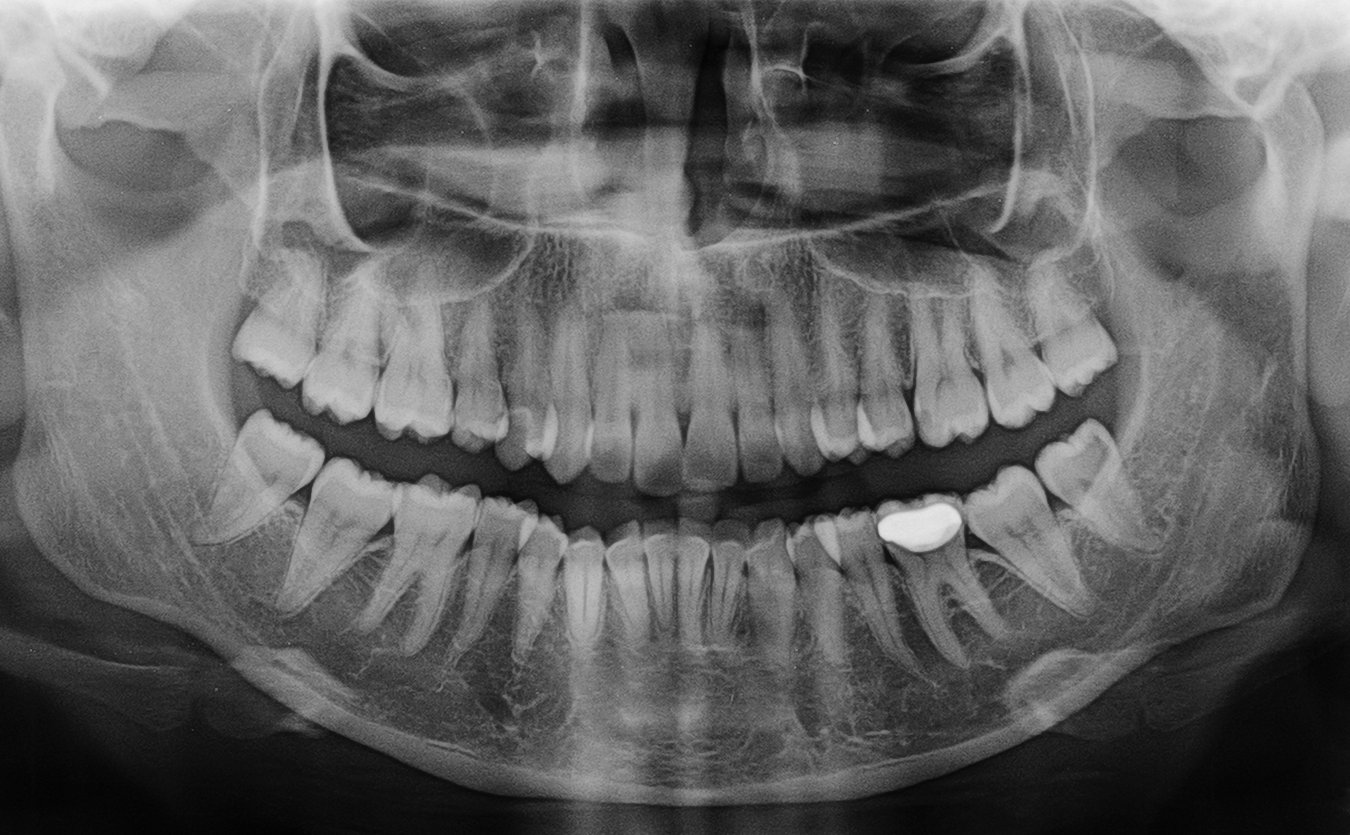apinamiento: (484, 400, 615, 481)
cordal: (190, 396, 344, 579), (195, 227, 349, 410), (1008, 230, 1162, 413), (1016, 398, 1170, 581)
tratamiento_conducto: (859, 471, 1018, 677)
